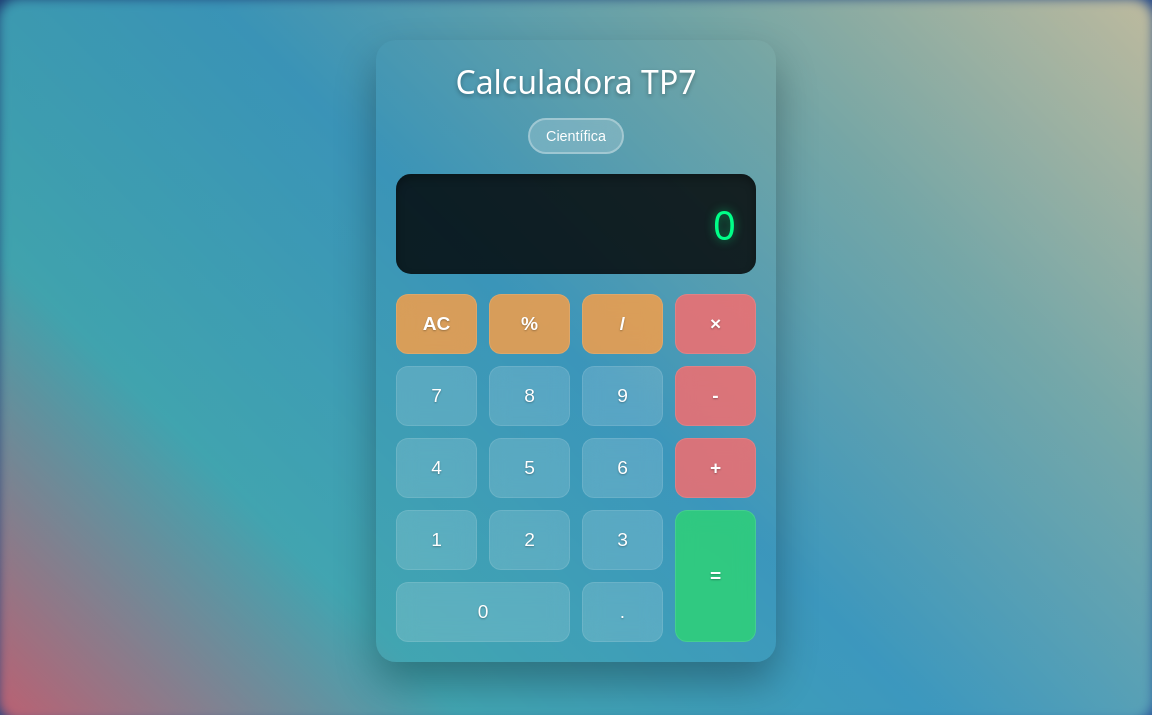
Scenario: Calculator Integration Tests › scientific mode integration: simple calculation
The image size is (1152, 715).
What coordinates should you click on to do the following:
click the button "Científica"
I would click on:
 (576, 136)
Its box is [528,118,624,154].
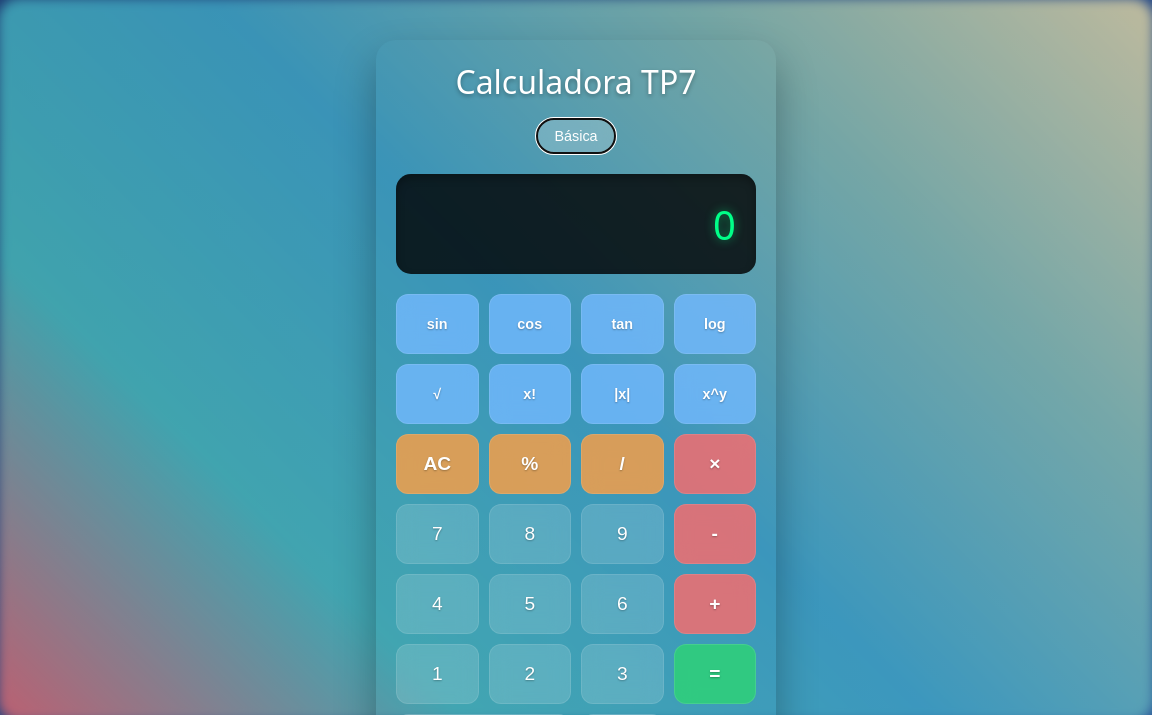
Now the button "sin" is shown, box [396,294,478,354]
Now the button "cos" is shown, box [488,294,571,354]
What coordinates should you click on to do the following:
click the button "AC"
I would click on:
 (437, 464)
Its box is [396,434,478,494].
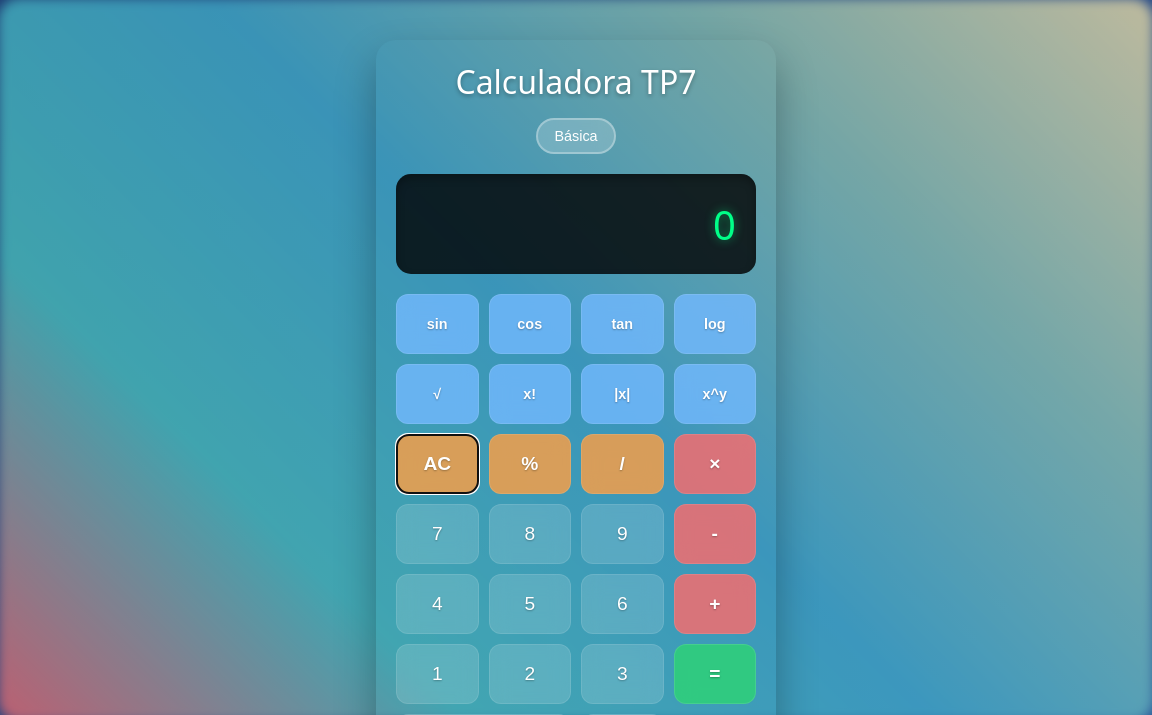
What coordinates should you click on to do the following:
click the button "2"
I would click on:
 (530, 674)
Its box is [488,644,571,704].
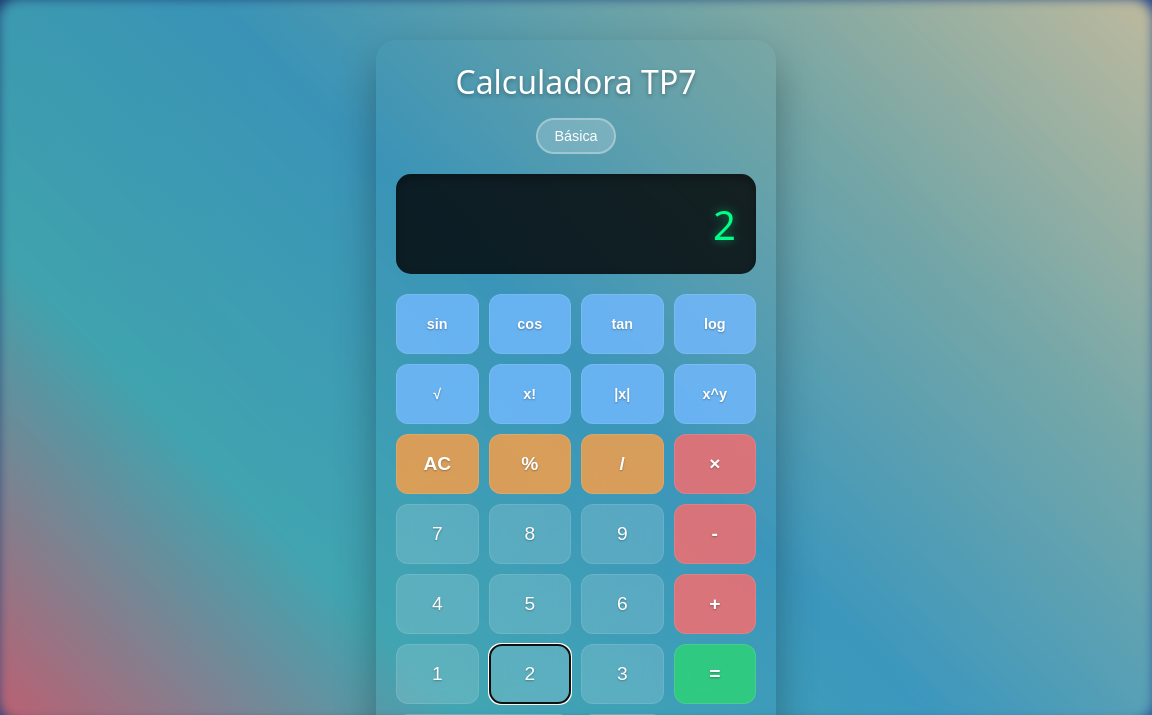
What coordinates should you click on to do the following:
click the button "x^y"
I would click on:
 (715, 394)
Its box is [674,364,756,424].
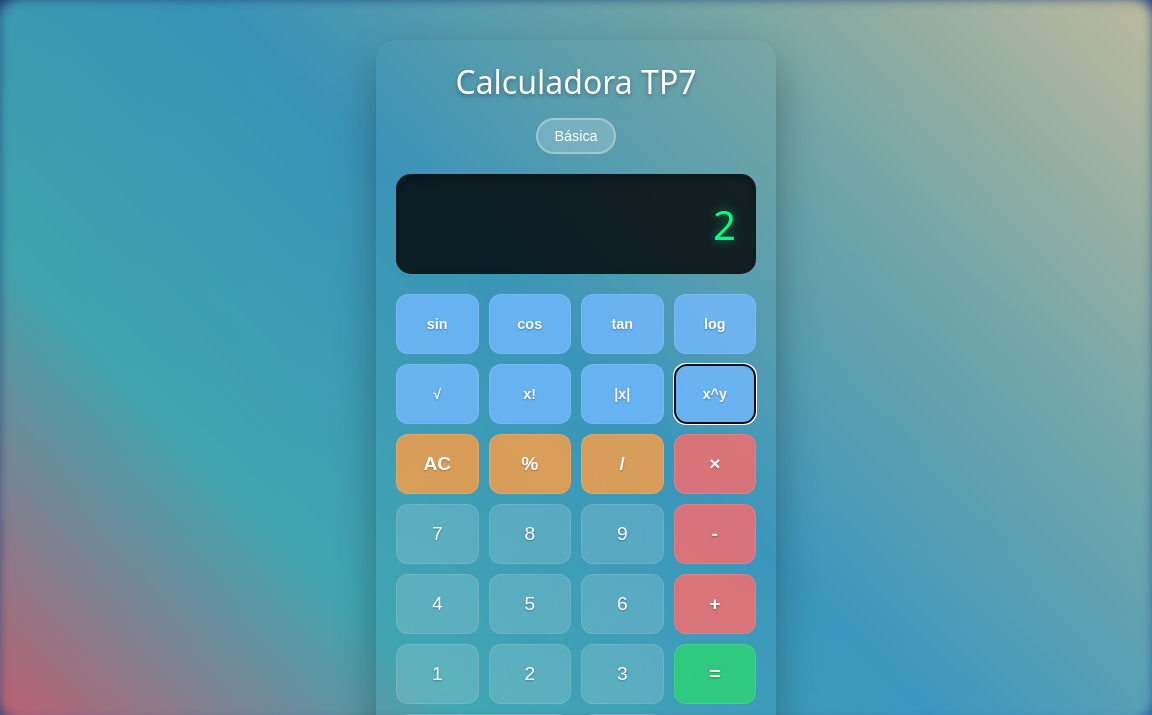
What coordinates should you click on to do the following:
click the button "2"
I would click on:
 (530, 674)
Its box is [488,644,571,704].
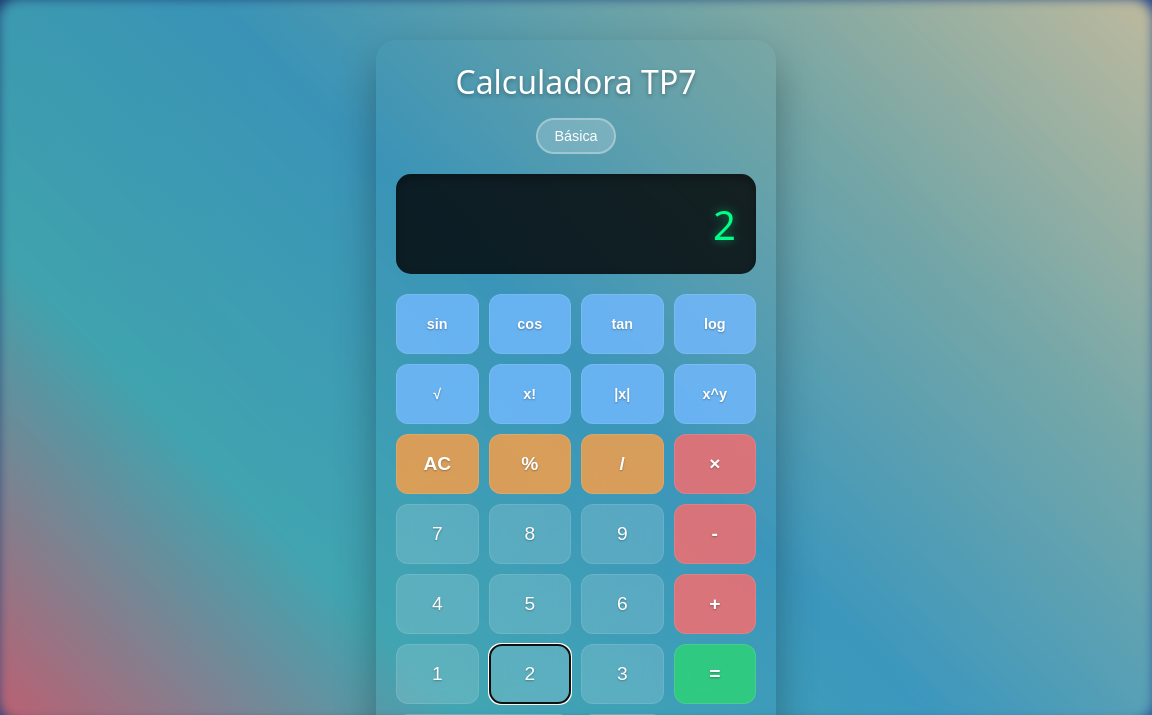
What coordinates should you click on to do the following:
click the button "="
I would click on:
 (715, 674)
Its box is [674,644,756,704].
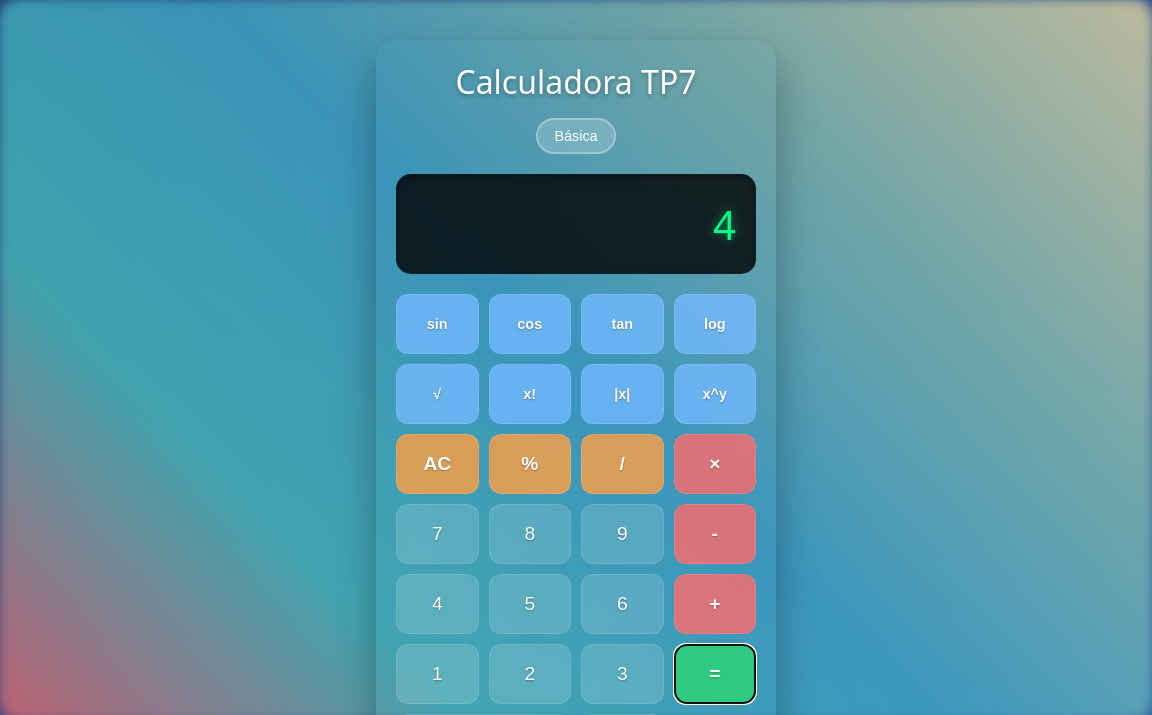
Now the field with test id "display" reads "4", box [713,196,736,252]
